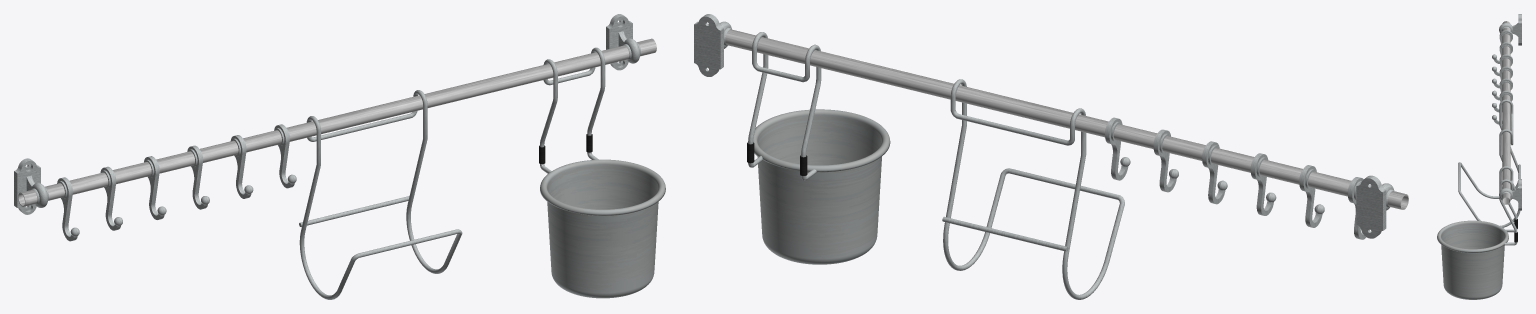
Rendered from 050 - stand divari ikea estil.glb.
The picture shows the model from 3 angles, left to right: view 1: azimuth 30°, elevation 25°; view 2: azimuth 150°, elevation 25°; view 3: azimuth 270°, elevation 25°; orthographic projection. The views are drawn at different scales.
Visible parts, largest first — view 1: Group#26 [121811], Group#29 [159604], Group#23 [121799], Group#7 [120297] (×6), [52380], Group#2 [120310], Group#182 [120323], Group#25 [121798]; view 2: Group#26 [121811], Group#29 [159604], Group#23 [121799], Group#7 [120297] (×5), [52380], Group#2 [120310], Group#182 [120323], Group#25 [121798]; view 3: Group#26 [121811], Group#29 [159604], Group#23 [121799], Group#7 [120297] (×6), [52380], Group#4 [120308] (×2), Group#3 [120309] (×2), Group#2 [120310], Group#182 [120323].
Boxes of the visible parts, bbox=[...] form: Group#26 [121811]: bbox=[540, 159, 665, 298]; Group#29 [159604]: bbox=[18, 38, 656, 206]; Group#23 [121799]: bbox=[299, 90, 462, 299]; Group#7 [120297] (×6): bbox=[57, 124, 294, 241]; [52380]: bbox=[540, 47, 640, 215]; Group#2 [120310]: bbox=[14, 158, 40, 214]; Group#182 [120323]: bbox=[606, 14, 632, 70]; Group#25 [121798]: bbox=[299, 196, 409, 226]; Group#26 [121811]: bbox=[753, 109, 890, 264]; Group#29 [159604]: bbox=[708, 24, 1408, 209]; Group#23 [121799]: bbox=[943, 79, 1124, 299]; Group#7 [120297] (×5): bbox=[1104, 117, 1322, 227]; [52380]: bbox=[748, 32, 845, 180]; Group#2 [120310]: bbox=[1356, 175, 1386, 238]; Group#182 [120323]: bbox=[694, 14, 723, 76]; Group#25 [121798]: bbox=[942, 216, 1068, 251]; Group#26 [121811]: bbox=[1437, 220, 1508, 299]; Group#29 [159604]: bbox=[1502, 21, 1510, 204]; Group#23 [121799]: bbox=[1458, 99, 1520, 227]; Group#7 [120297] (×6): bbox=[1493, 30, 1512, 124]; [52380]: bbox=[1450, 166, 1517, 252]; Group#4 [120308] (×2): bbox=[1499, 23, 1512, 200]; Group#3 [120309] (×2): bbox=[1512, 23, 1518, 201]; Group#2 [120310]: bbox=[1518, 14, 1521, 45]; Group#182 [120323]: bbox=[1518, 179, 1521, 210].
Bounding box in the file's own units: 0.8 × 0.2667 × 0.163.
6 materials, 6 textured.
